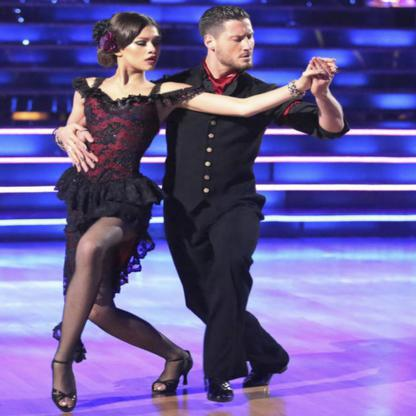face: (127, 22, 163, 70), (221, 20, 254, 70)
